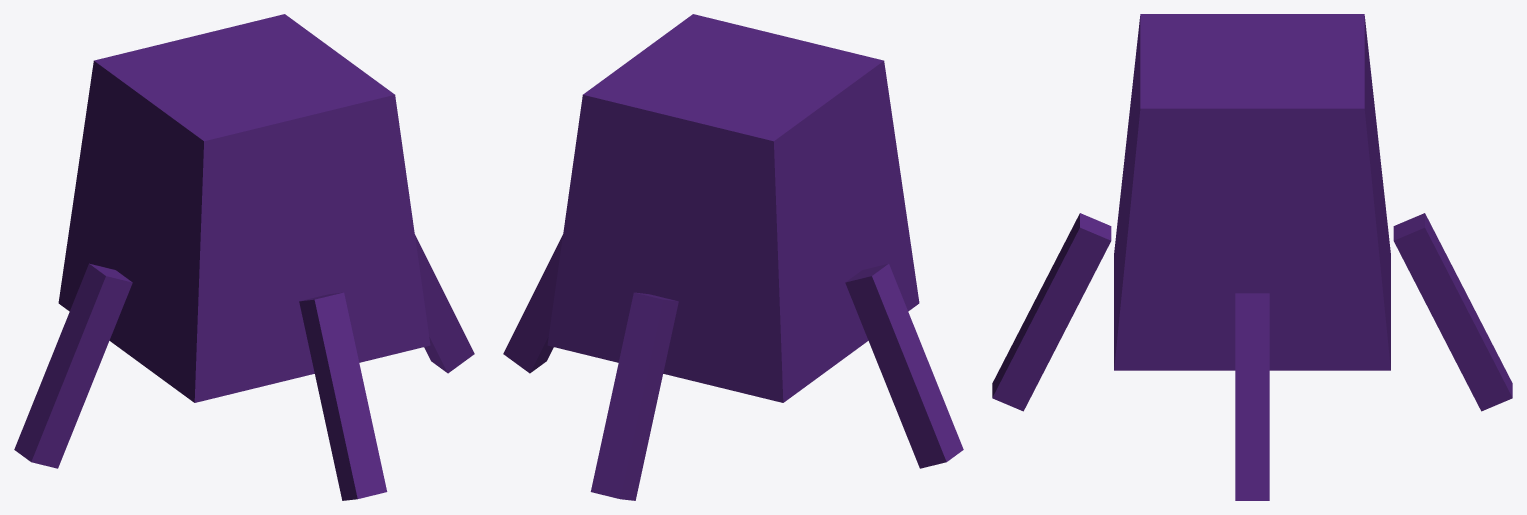
The model's file is lunar_lander.fbx.
3 renders of one model, left to right at view 1: azimuth 30°, elevation 25°; view 2: azimuth 150°, elevation 25°; view 3: azimuth 270°, elevation 25°, orthographic.
Visible parts, largest first — view 1: Cube, Leg.004, Leg.001, Leg.003; view 2: Cube, Leg.004, Leg.002, Leg.003; view 3: Cube, Leg.002, Leg.001, Leg.003.
Part boxes in pixels (x1=…): Cube: x1=58, y1=14, x2=430, y2=402; Leg.004: x1=14, y1=263, x2=132, y2=468; Leg.001: x1=299, y1=292, x2=387, y2=500; Leg.003: x1=415, y1=235, x2=474, y2=373; Cube: x1=547, y1=14, x2=919, y2=402; Leg.004: x1=845, y1=263, x2=963, y2=468; Leg.002: x1=590, y1=292, x2=678, y2=500; Leg.003: x1=503, y1=235, x2=562, y2=373; Cube: x1=1114, y1=14, x2=1390, y2=370; Leg.002: x1=1393, y1=213, x2=1512, y2=411; Leg.001: x1=992, y1=213, x2=1111, y2=411; Leg.003: x1=1235, y1=293, x2=1269, y2=500.
Bounding box in the file's own units: 3.76 × 2.73 × 3.76.
